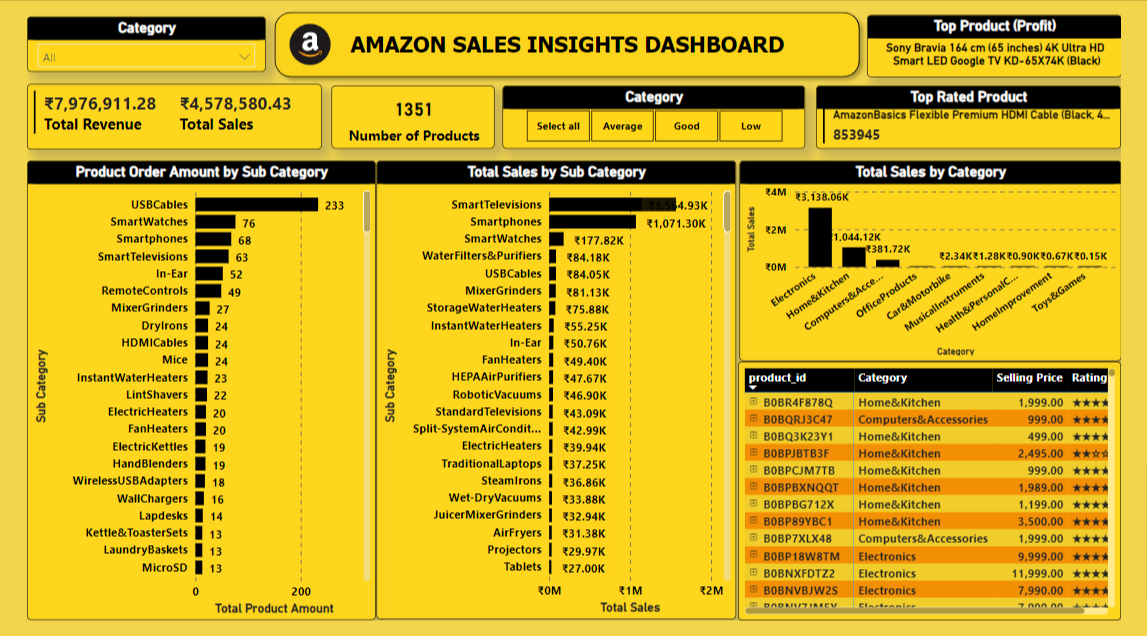

Layout of this report page (visuals, bound fields, positions):
{"tool":"powerbi","page":{"name":"Dashboard","canvas":[1280,720],"ordinal":0},"visuals":[{"type":"shape","box":[279.9,0,702.2,93.8],"z":0},{"type":"image","box":[302.6,14.6,58.2,64.7],"z":1000},{"type":"barChart","title":"Product Order Amount by Sub Category","fields":{"Category":["amazon.Sub Category"],"Y":["amazon.Total Product Amount"]},"box":[0,182.8,407.7,537.2],"z":2000},{"type":"barChart","title":"Total Sales by Sub Category","fields":{"Category":["amazon.Sub Category"],"Y":["amazon.Total Sales"]},"box":[408.7,183.3,420.4,536.7],"z":3000},{"type":"multiRowCard","title":"Product Order Amount by Sub Category","fields":{"Values":["amazon.Total Revenue","amazon.Total Sales"]},"box":[0,93.8,344.6,76.9],"z":4000},{"type":"columnChart","title":"Total Sales by Category","fields":{"Category":["amazon.Category"],"Y":["amazon.Total Sales"]},"box":[833.3,182.8,446.6,234.6],"z":5000},{"type":"slicer","title":"Category","fields":{"Values":["amazon.Category"]},"box":[0,13.6,279.7,64.4],"z":6000},{"type":"card","title":"Total Number of Products","fields":{"Values":["amazon.Number of Products"]},"box":[355.4,95.4,190.8,73.8],"z":7000},{"type":"pivotTable","title":"Product Order Amount by Sub Category","fields":{"Rows":["amazon.product_id","amazon.product_name"],"Values":["Min(amazon.Category)","Sum(amazon.actual_price)","amazon.rating star rating"]},"box":[831.6,417.4,448.2,302.6],"z":8000},{"type":"slicer","title":"Category","fields":{"Values":["amazon.Rating Wise Quality"]},"box":[556.9,95.4,353.8,73.8],"z":9000},{"type":"card","title":"Top Product (Profit)","fields":{"Values":["Min(amazon.product_name)"]},"box":[982.3,12.9,297.7,72.8],"z":10000},{"type":"multiRowCard","title":"Top Rated Product ","fields":{"Values":["Sum(amazon.rating_count)","amazon.product_name"]},"box":[923.1,95.4,356.9,73.8],"z":11000}]}

Visuals, with their boxes in screenshot pixels (x1, y1, x2, y2), scaled from the page's 1280x720 canvas onto the 1147x636 screenshot:
shape: [251,0,880,83]
image: [271,13,323,70]
"Product Order Amount by Sub Category" barChart: [0,161,365,635]
"Total Sales by Sub Category" barChart: [366,162,743,635]
"Product Order Amount by Sub Category" multiRowCard: [0,83,309,151]
"Total Sales by Category" columnChart: [747,161,1146,369]
"Category" slicer: [0,12,251,69]
"Total Number of Products" card: [318,84,489,149]
"Product Order Amount by Sub Category" pivotTable: [745,369,1146,635]
"Category" slicer: [499,84,816,149]
"Top Product (Profit)" card: [880,11,1146,76]
"Top Rated Product " multiRowCard: [827,84,1146,149]
